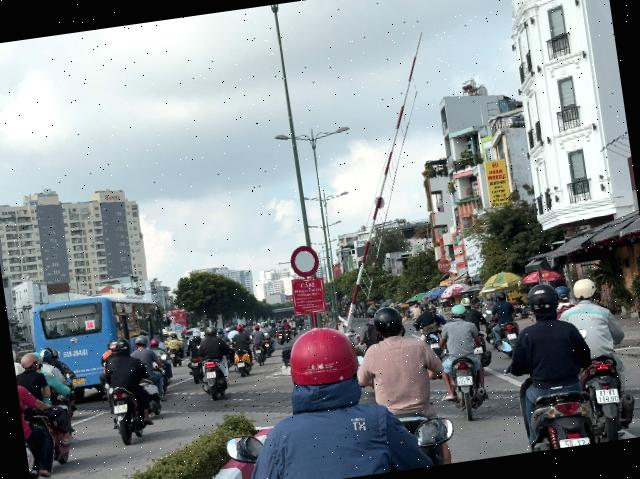duong-cam: (289, 243, 322, 278)
